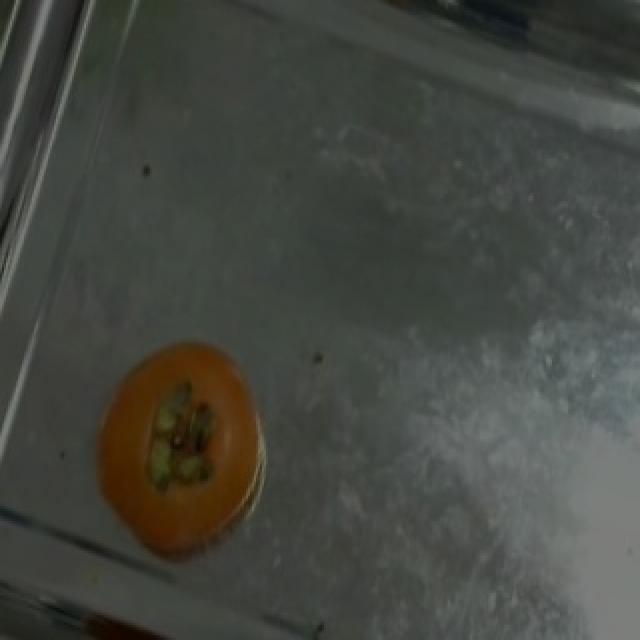Fruit: (64, 332, 292, 576)
